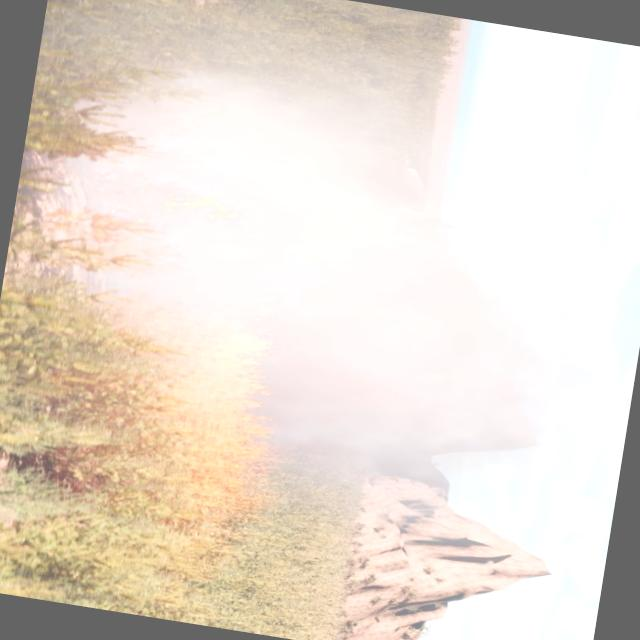fire: (99, 160, 261, 258)
smoke: (29, 45, 640, 512)
